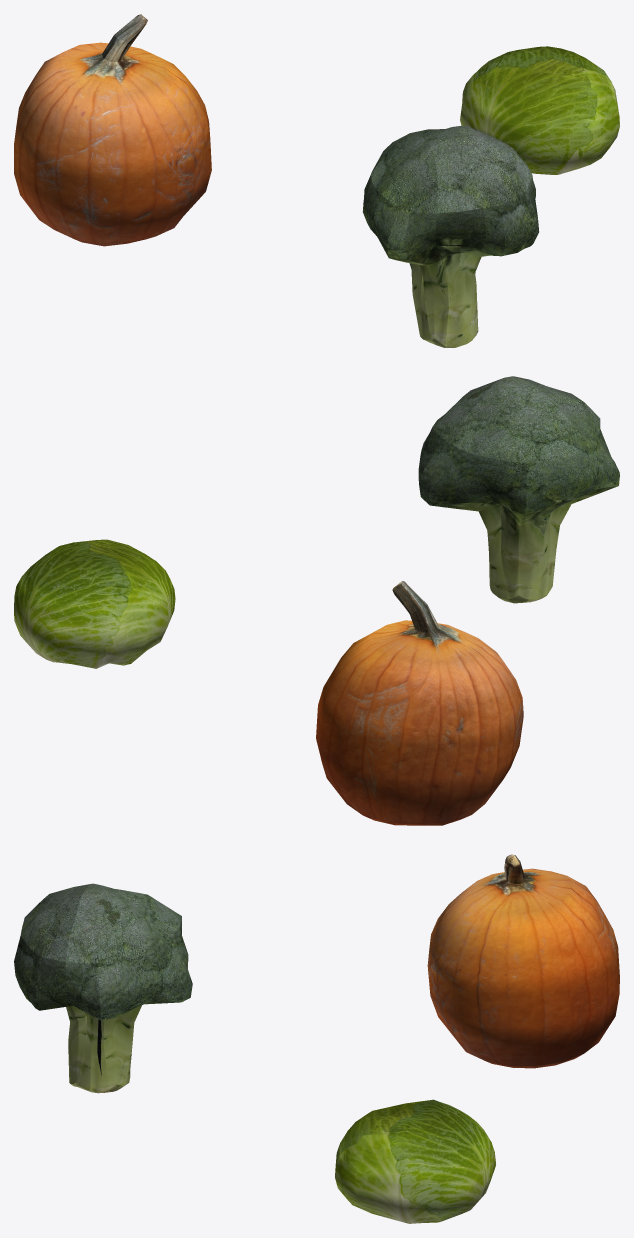
File: Veggies.fbx
3 renders of one model, top to bottom at view 1: azimuth 30°, elevation 25°; view 2: azimuth 150°, elevation 25°; view 3: azimuth 270°, elevation 25°, orthographic. The views are drawn at different scales.
Visible parts, largest first — view 1: Pumpkin2, Broccoli1, Cabbage1; view 2: Pumpkin2, Broccoli1, Cabbage1; view 3: Pumpkin2, Broccoli1, Cabbage1.
Boxes of the visible parts, <box> form: Pumpkin2: <box>14,14,211,246</box>; Broccoli1: <box>362,125,539,347</box>; Cabbage1: <box>460,46,619,174</box>; Pumpkin2: <box>316,581,523,825</box>; Broccoli1: <box>418,376,619,603</box>; Cabbage1: <box>14,539,175,668</box>; Pumpkin2: <box>427,854,619,1068</box>; Broccoli1: <box>14,883,192,1093</box>; Cabbage1: <box>335,1099,495,1223</box>.
Bounding box in the file's own units: 0.6421 × 0.2657 × 0.655.
Materials: 3 (3 with a texture image).
